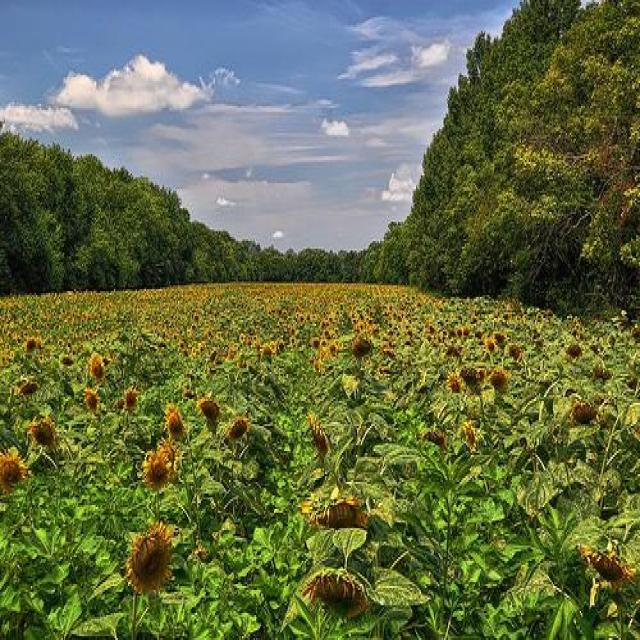sunflower: (304, 563, 367, 619), (126, 517, 172, 591), (578, 539, 634, 595), (299, 493, 369, 529), (141, 444, 180, 485), (0, 448, 32, 496), (221, 414, 251, 448), (27, 413, 59, 442)
